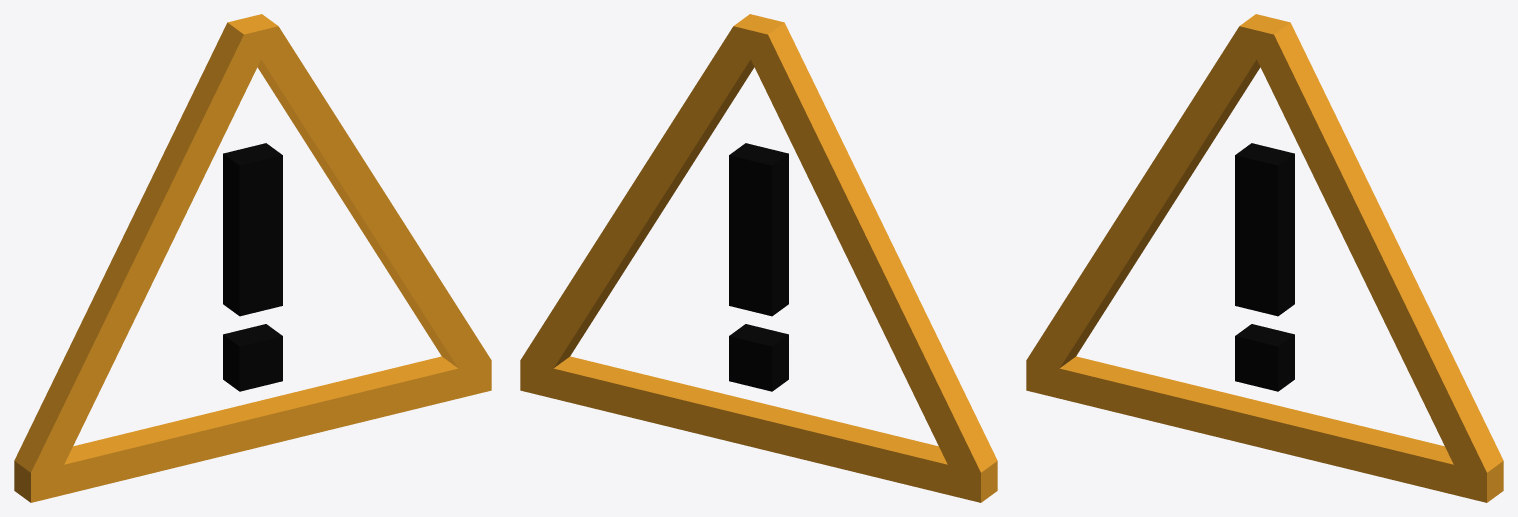
File: warn.gltf
The picture shows the model from 3 angles, left to right: view 1: azimuth 30°, elevation 25°; view 2: azimuth 150°, elevation 25°; view 3: azimuth 330°, elevation 25°; orthographic projection.
Parts seen in each view (by area): view 1: cube (×6); view 2: cube (×6); view 3: cube (×6).
Boxes of the visible parts, box(x1,y1,x2,y2) form: cube (×6): box(14, 14, 491, 502); cube (×6): box(520, 14, 997, 502); cube (×6): box(1026, 14, 1503, 502).
Size of the model in its own units: 1 by 0.8636 by 0.0625.
Materials: 1 (1 with a texture image).
